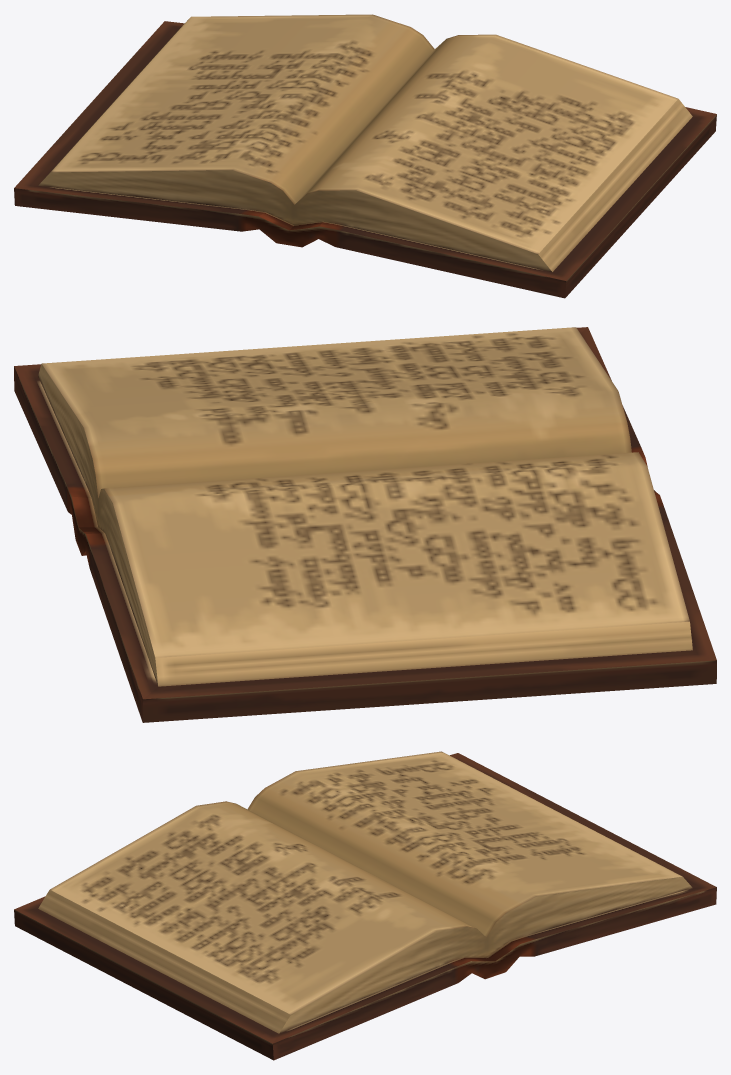
Rendered from Book_Open01.fbx.
3 renders of one model, top to bottom at view 1: azimuth 30°, elevation 25°; view 2: azimuth 150°, elevation 25°; view 3: azimuth 270°, elevation 25°, orthographic. The views are drawn at different scales.
Visible parts, largest first — view 1: Book_open04; view 2: Book_open04; view 3: Book_open04.
Boxes of the visible parts, x1=… form: Book_open04: x1=14, y1=14, x2=716, y2=298; Book_open04: x1=14, y1=327, x2=716, y2=722; Book_open04: x1=14, y1=751, x2=716, y2=1060.
Size of the model in its own units: 1.78 by 0.1909 by 1.84.
